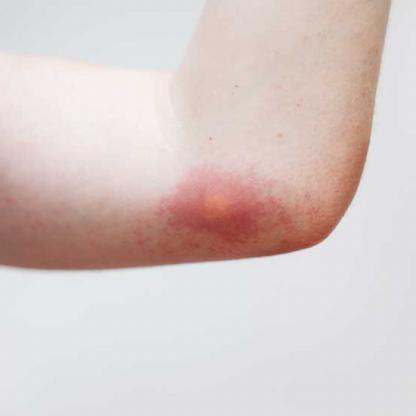Wasp: (180, 182, 249, 236)
